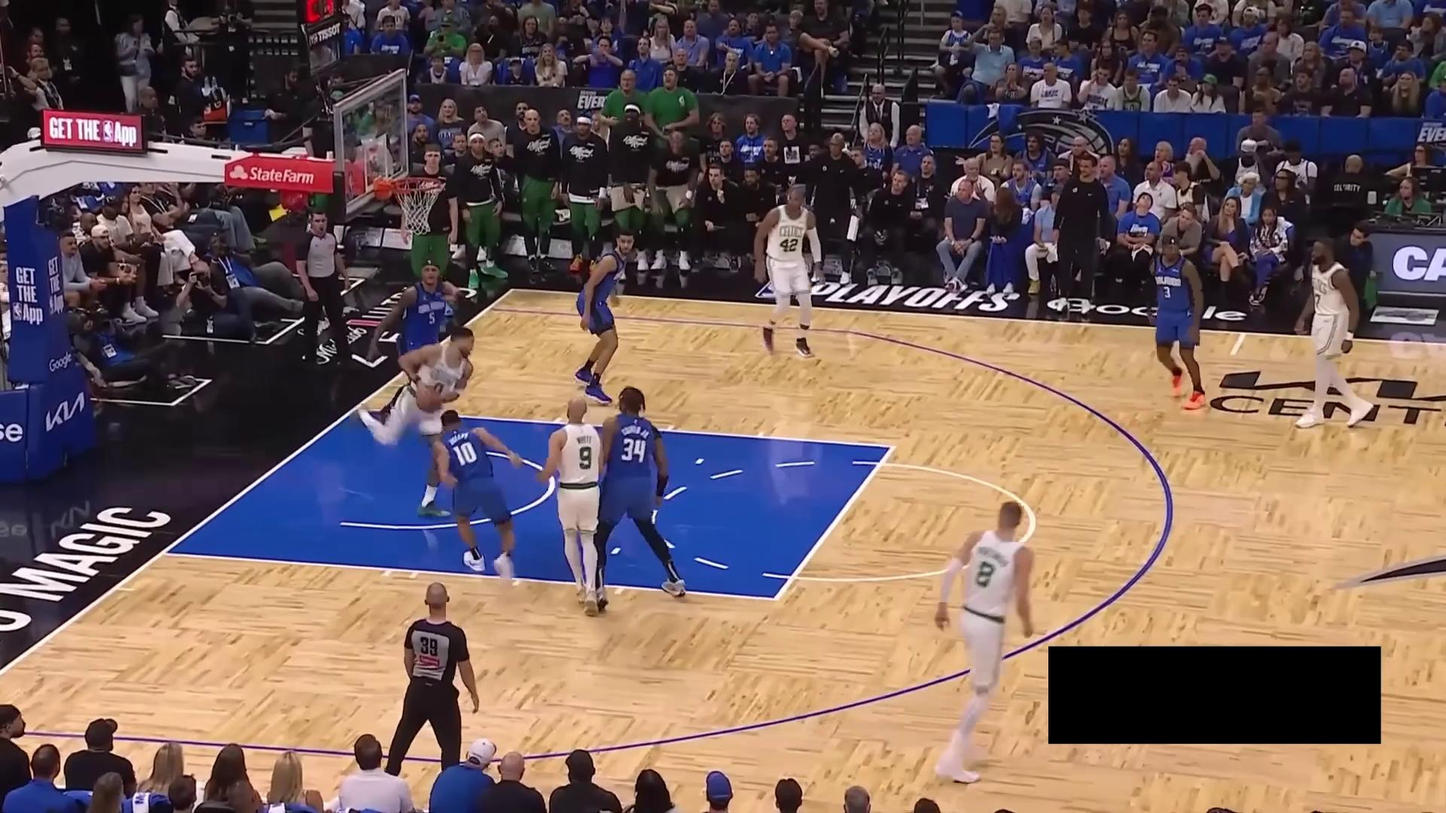ball: (416, 386, 443, 413)
number: (620, 437, 648, 464), (450, 440, 477, 467), (976, 559, 994, 590), (578, 442, 593, 473), (779, 238, 799, 253), (428, 311, 436, 325), (1163, 286, 1171, 299), (1315, 292, 1322, 306)
player: (929, 495, 1039, 787), (581, 384, 687, 614), (364, 257, 469, 430), (528, 393, 609, 617), (1290, 237, 1376, 431), (749, 183, 825, 360), (570, 226, 642, 403), (1149, 231, 1215, 411)
player-in-possession: (347, 325, 481, 519), (429, 407, 524, 585)
referee: (384, 577, 481, 784), (297, 205, 365, 372)
rim: (387, 174, 448, 196)
